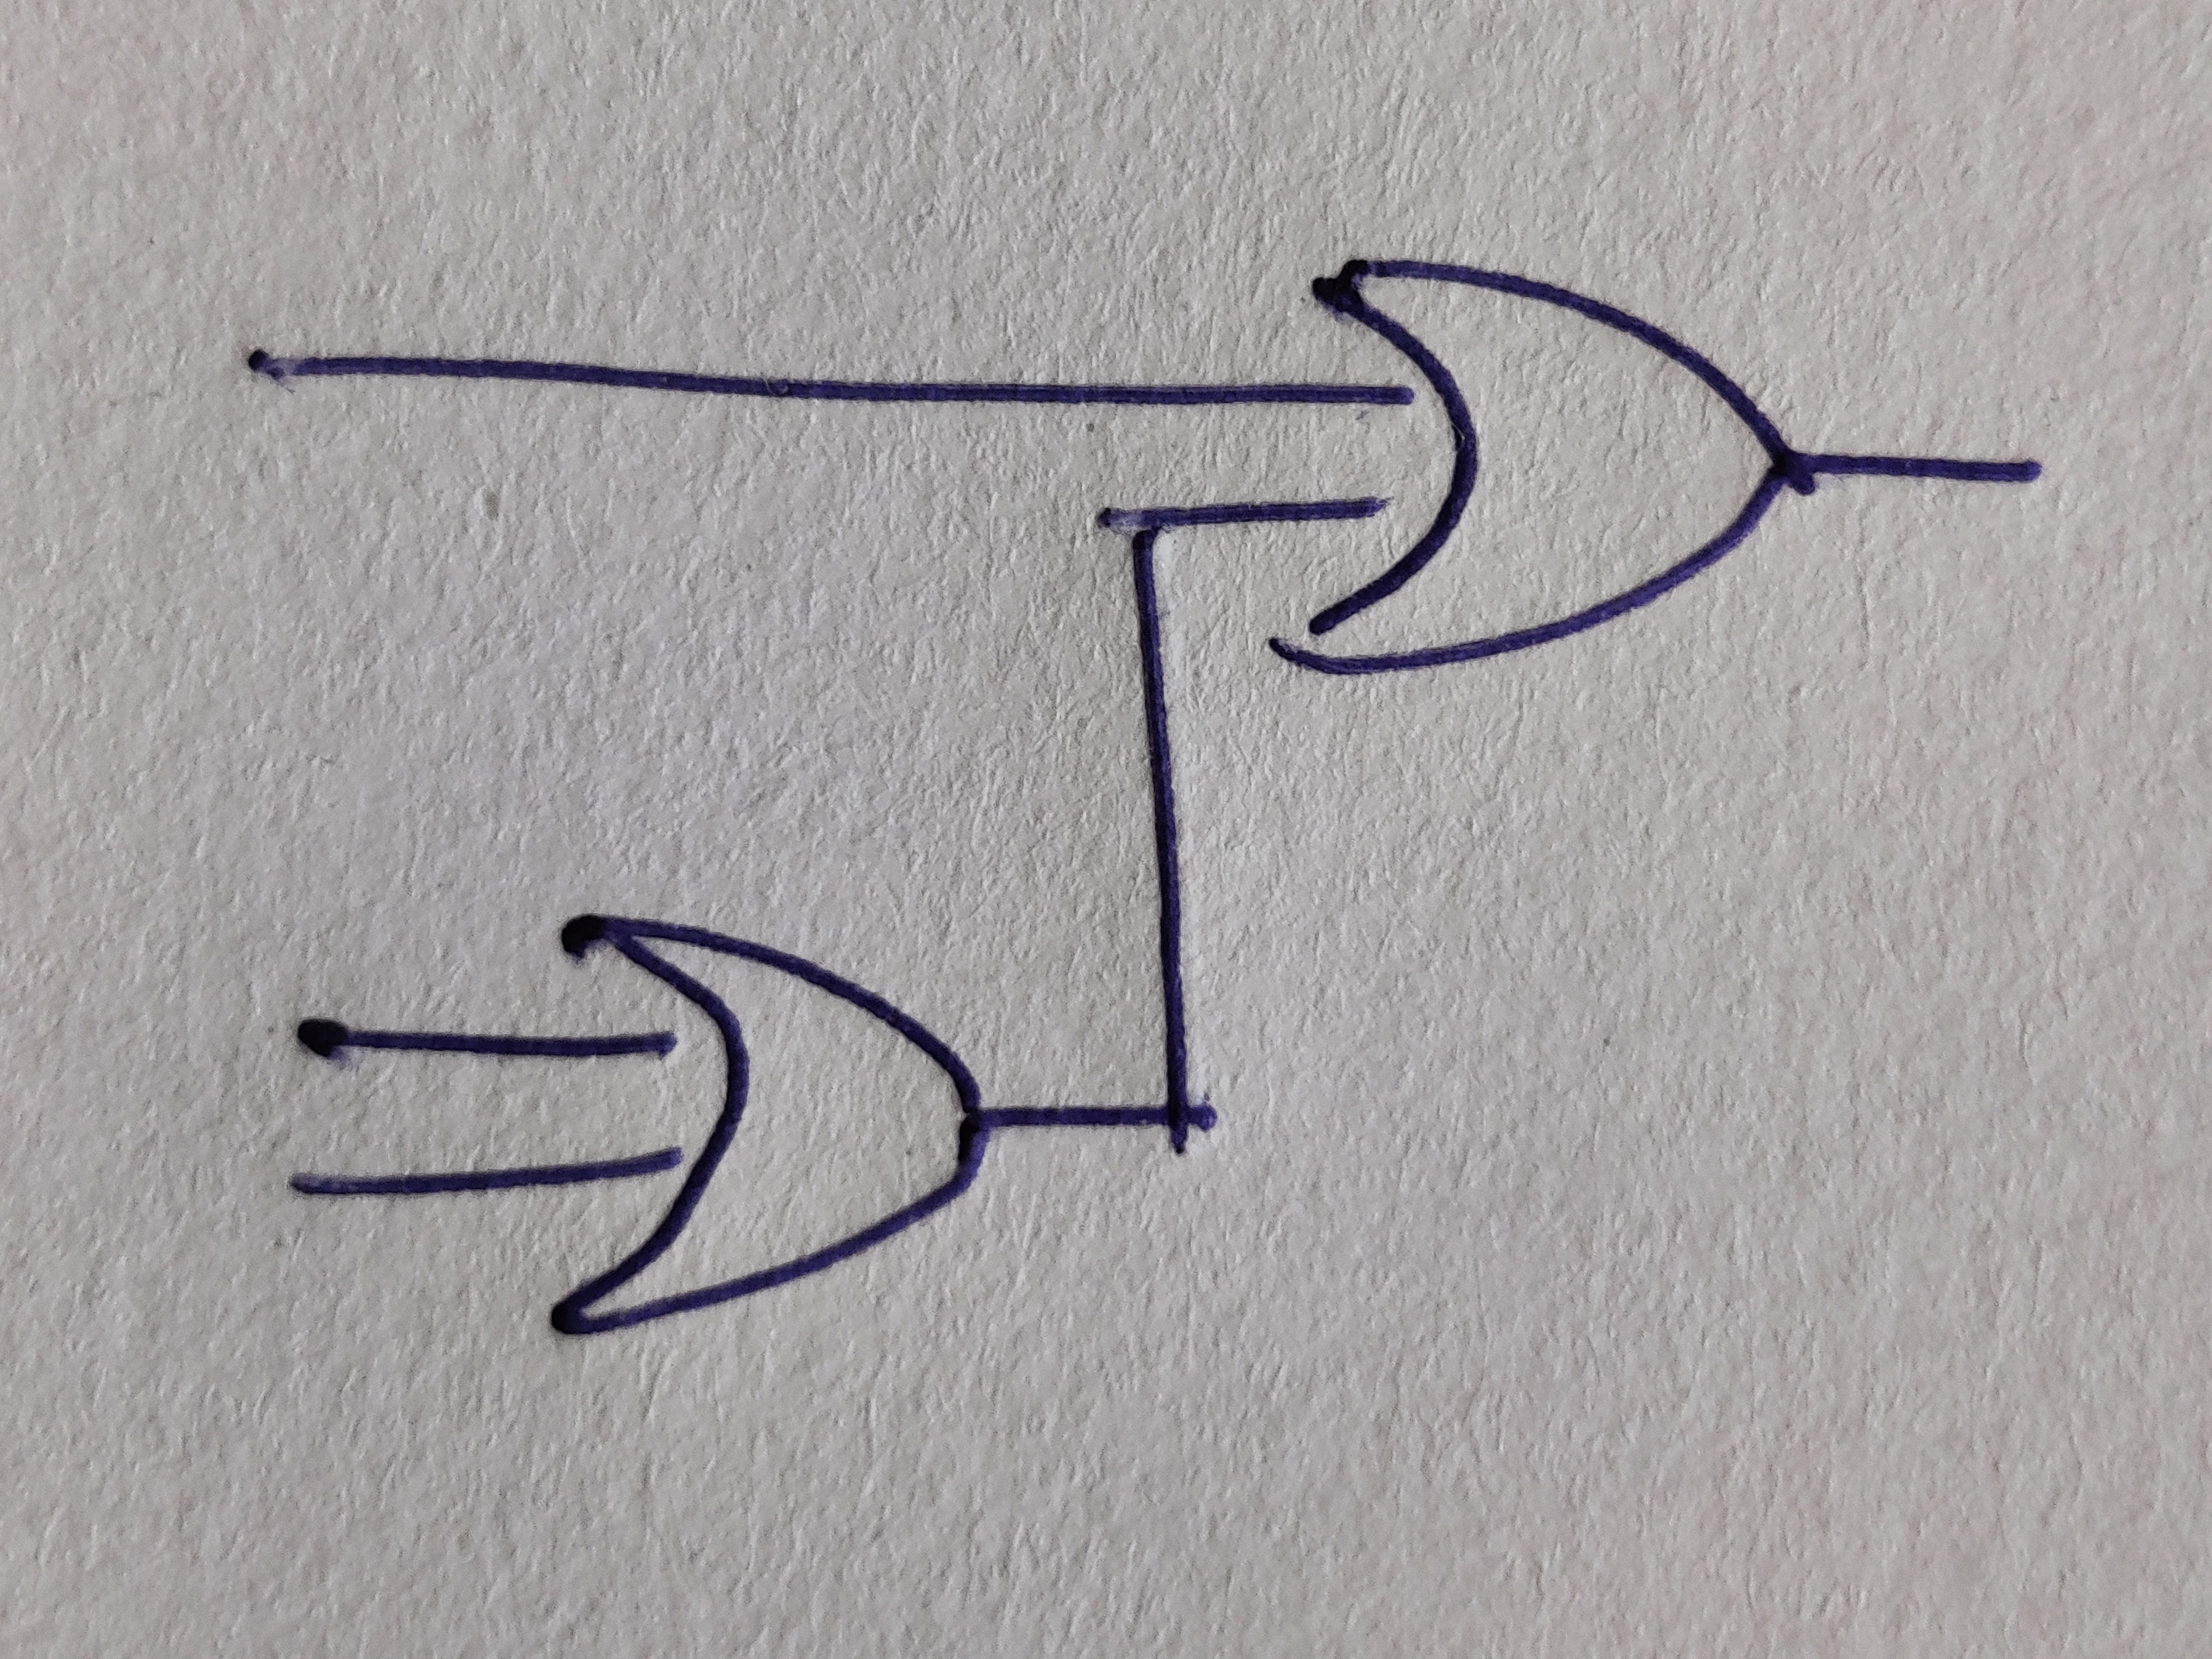or: (1268, 258, 1789, 676), (550, 915, 993, 1335)
